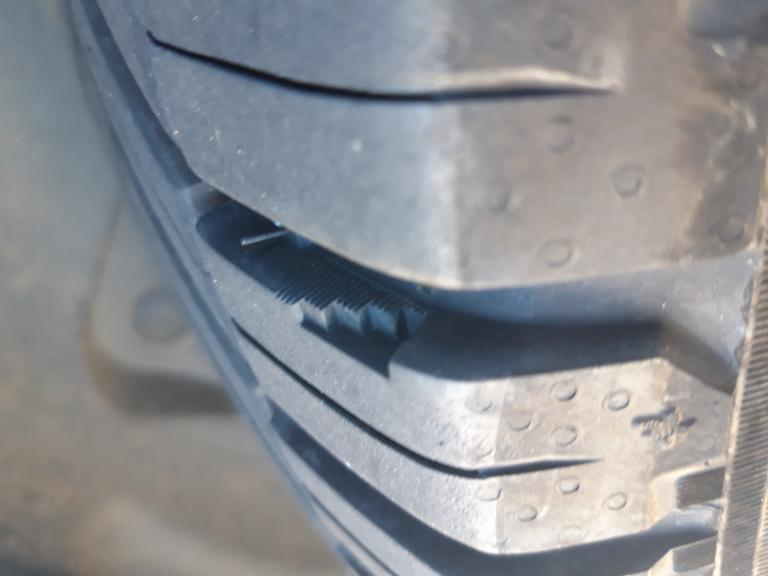temoin:90: (267, 249, 443, 388)
